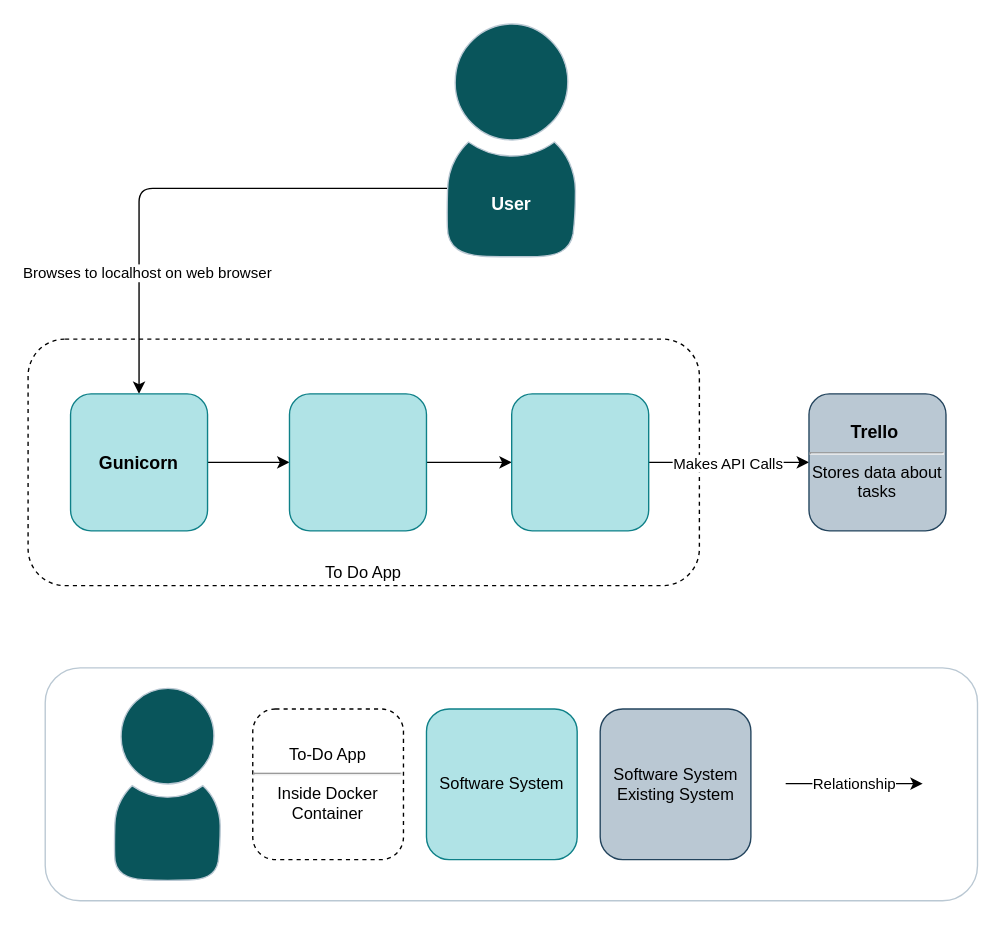
Some shapes in this 1003 by 925 pixel diagram are drawn without their labels. Here are the shapes that lost their labels. From the top down, the centre of each, then its label:
the point at 357,462: Flask
the point at 579,462: Application code
the point at 166,783: Person
